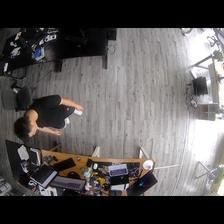normal: (13, 94, 84, 141)
